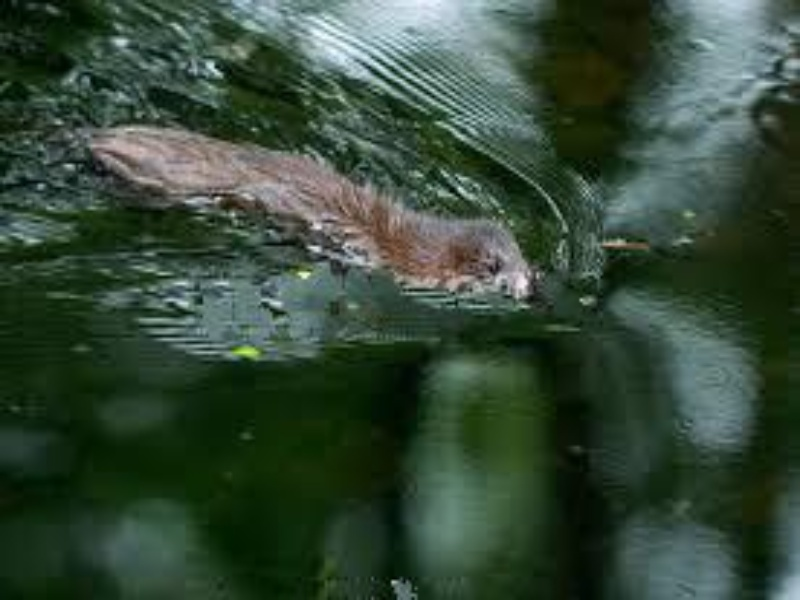minkish: (88, 118, 536, 304)
